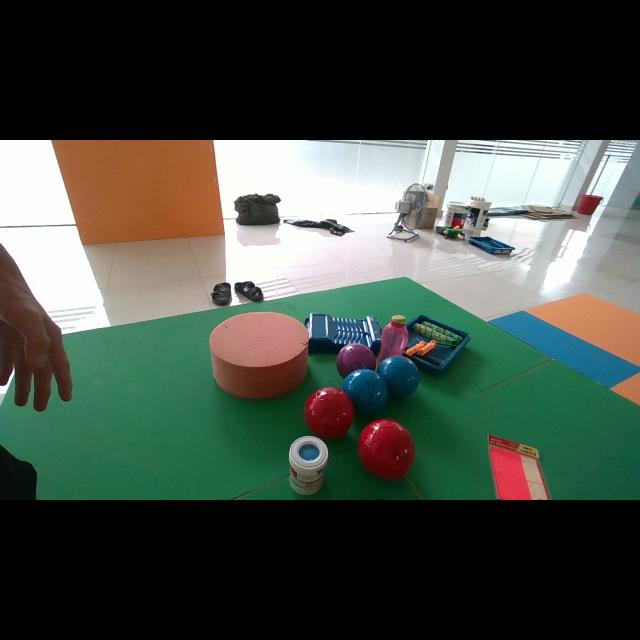B: (341, 369, 388, 415), (378, 355, 420, 398)
P: (336, 342, 375, 379)
R: (358, 419, 415, 479), (304, 388, 355, 439)
